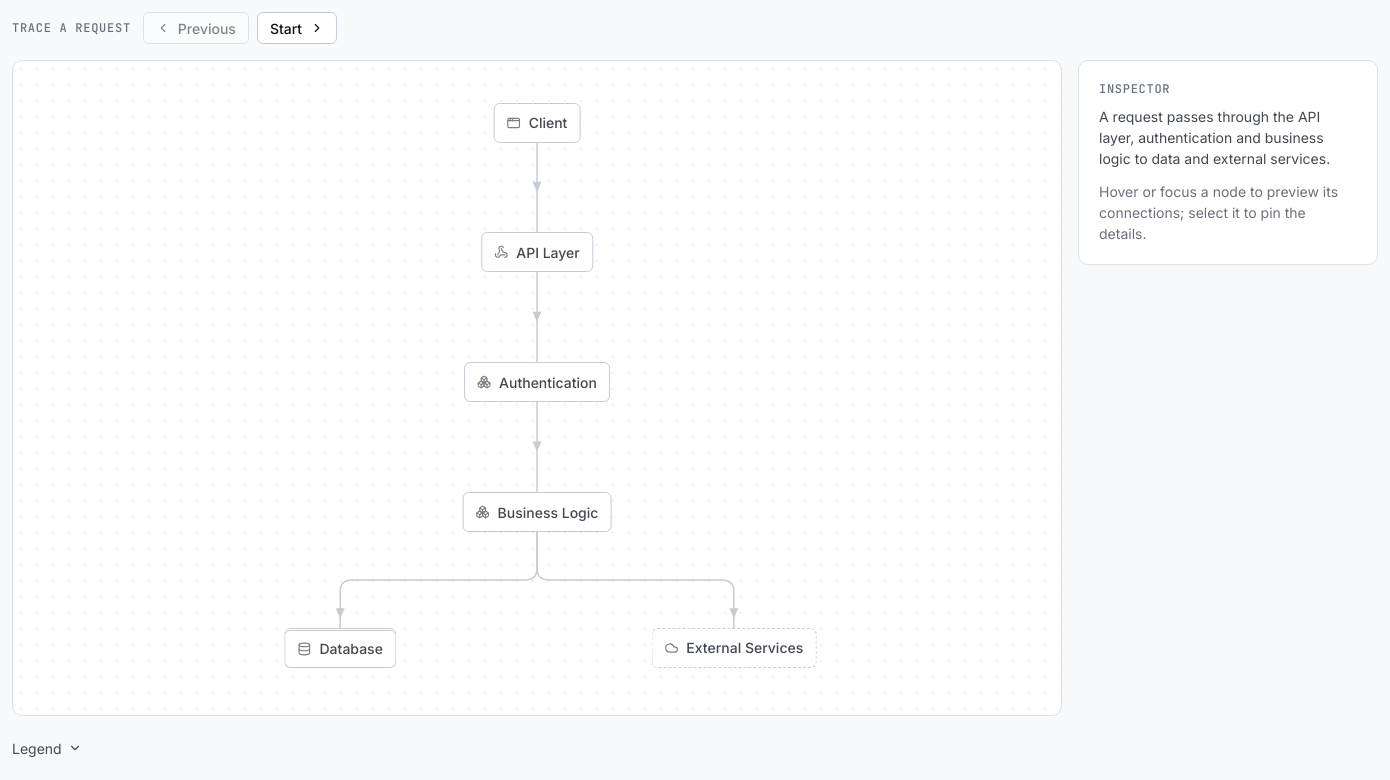
Test: SystemGraph › steps through a request trace
Step 1. Click the button "Start" → (297,28), box [257,12,337,44]
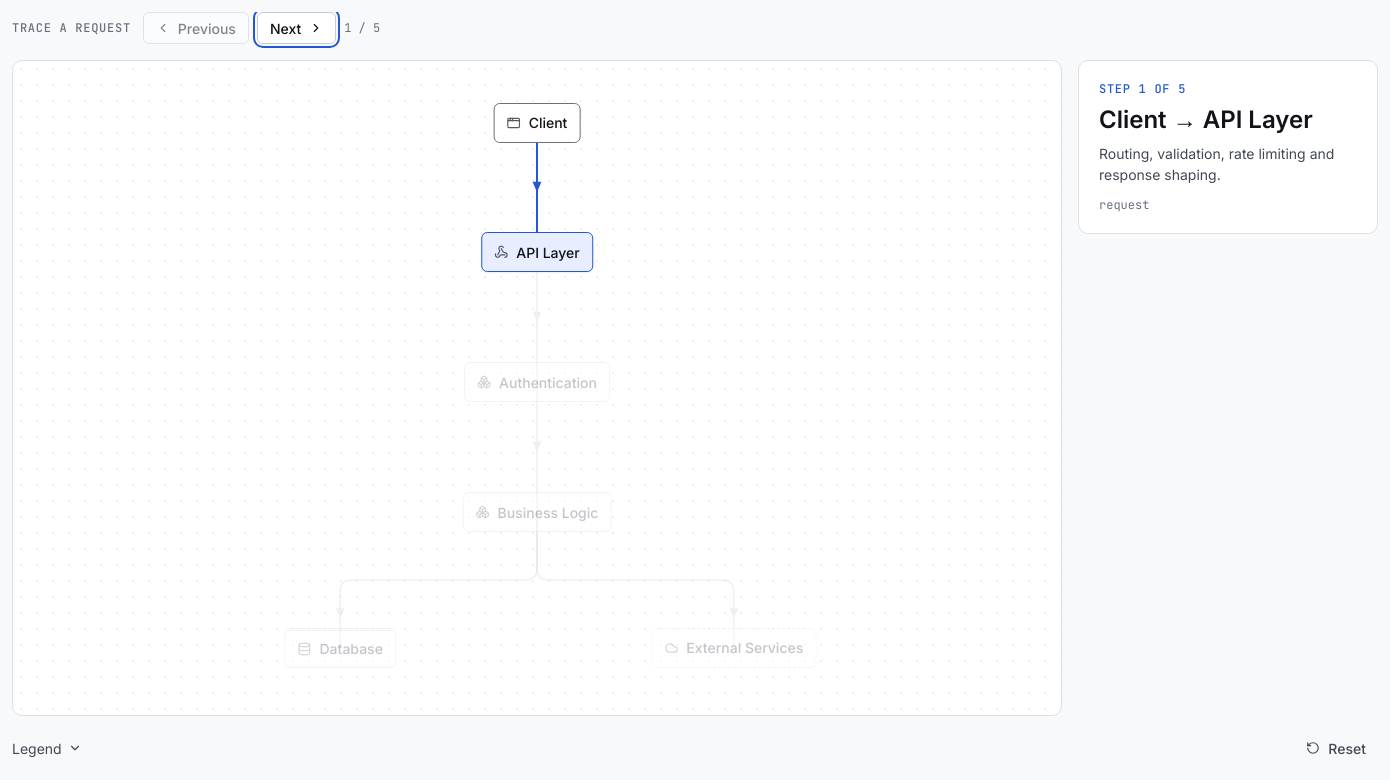
expect the text "Step 1 of 5" is shown: met, box [1099,81,1186,97]
Step 2. Click the button "Next" → (297,28), box [257,12,336,44]
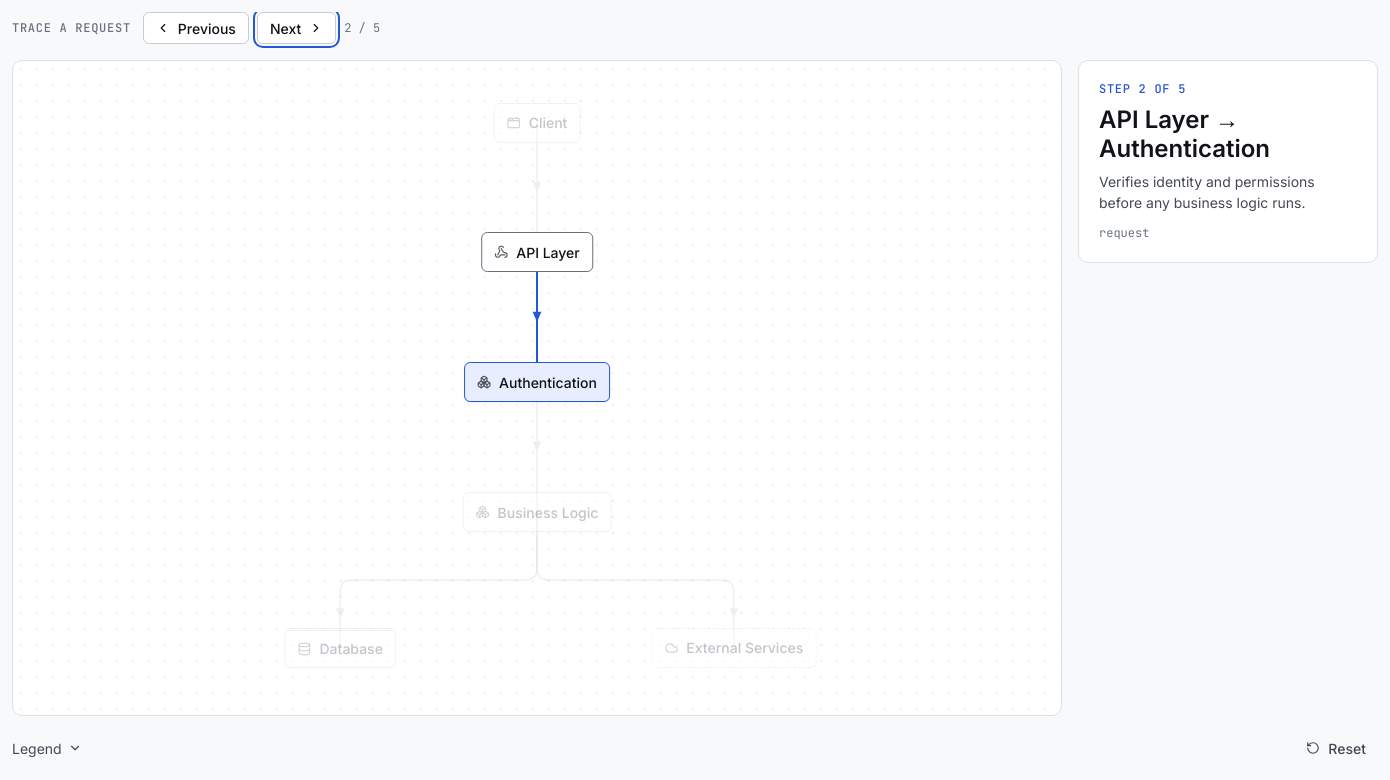
expect the text "Step 2 of 5" is shown: met, box [1099,81,1186,97]
expect the button "Previous" is enabled: met, box [143,12,249,44]
